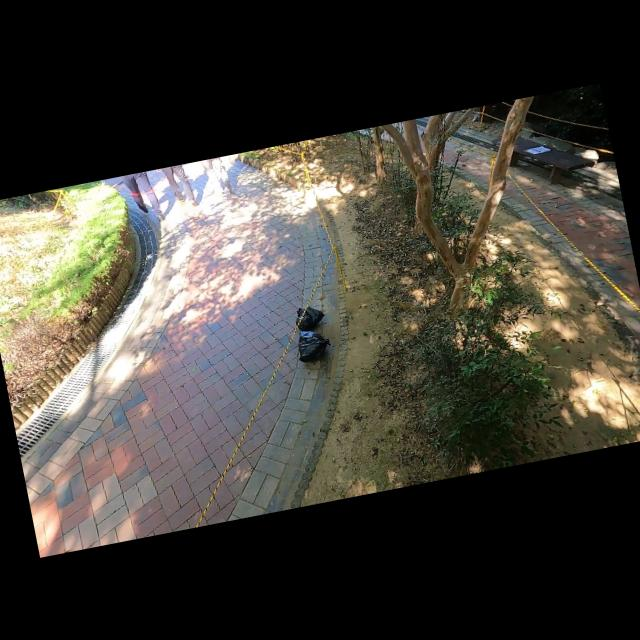trash: (292, 322, 339, 367), (288, 298, 330, 332)
